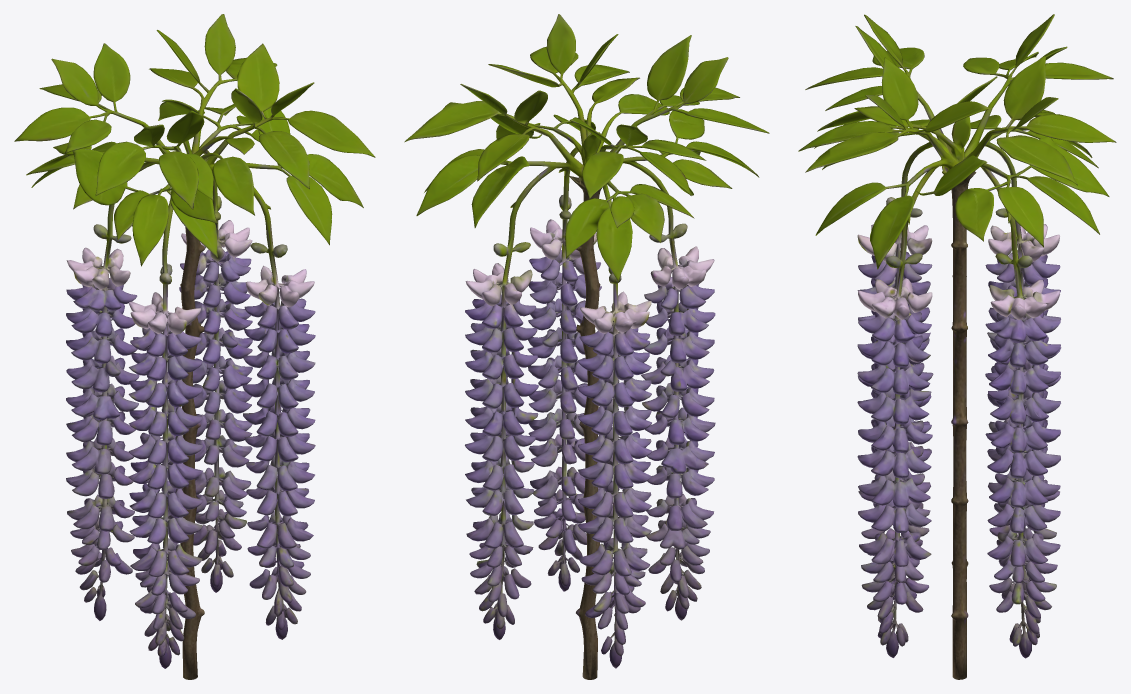
File: ziteng.glb
3 renders of one model, left to right at view 1: azimuth 30°, elevation 25°; view 2: azimuth 150°, elevation 25°; view 3: azimuth 270°, elevation 25°, orthographic.
Parts seen in each view (by area): view 1: node_0; view 2: node_0; view 3: node_0.
Boxes of the visible parts, x1,y1,x2,y2 form: node_0: (14, 14, 375, 679); node_0: (404, 14, 769, 679); node_0: (798, 14, 1116, 679).
Size of the model in its own units: 0.5241 by 1.13 by 0.5223.
1 material, 1 textured.
